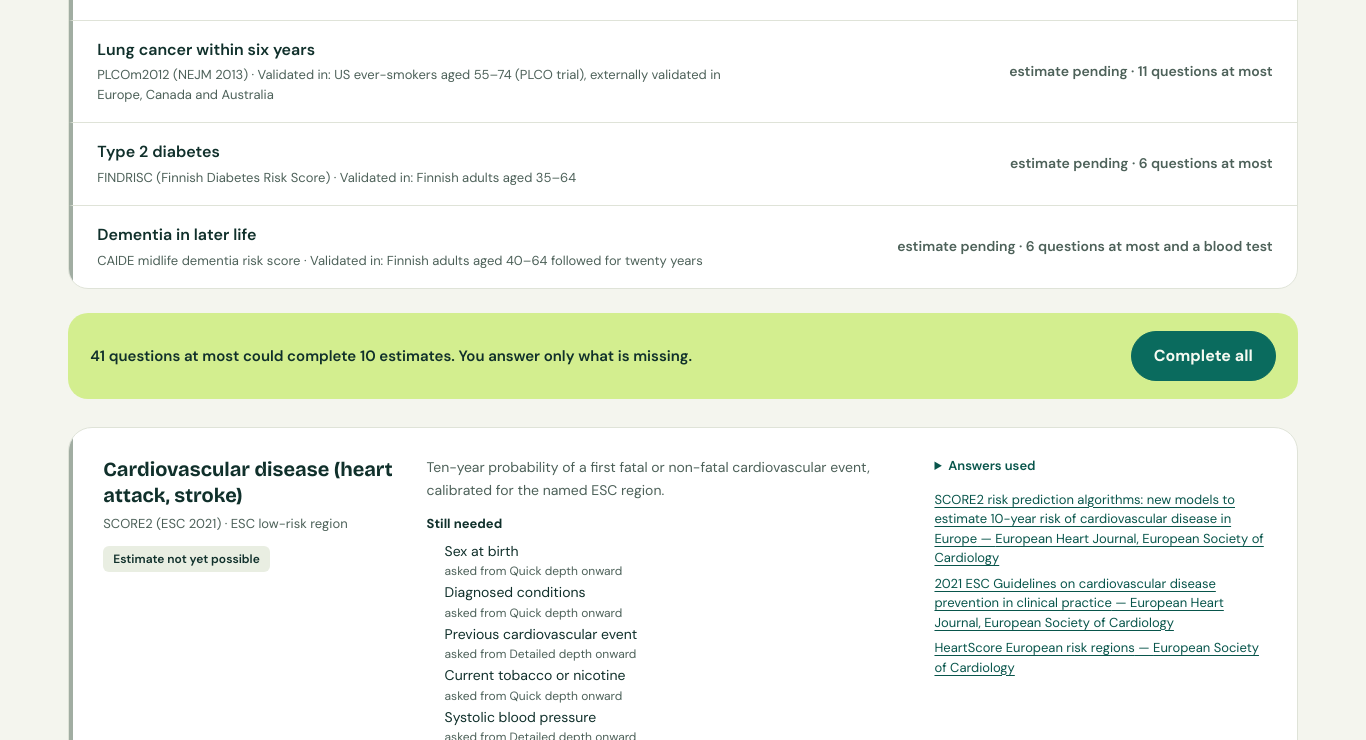
Test case: Express adults see the conditions and can complete all estimates, going back and stopping at will
(page scrolled)
Click the button "Complete all". click: point(1203, 356)
box: [1131, 331, 1276, 381]
(page scrolled)
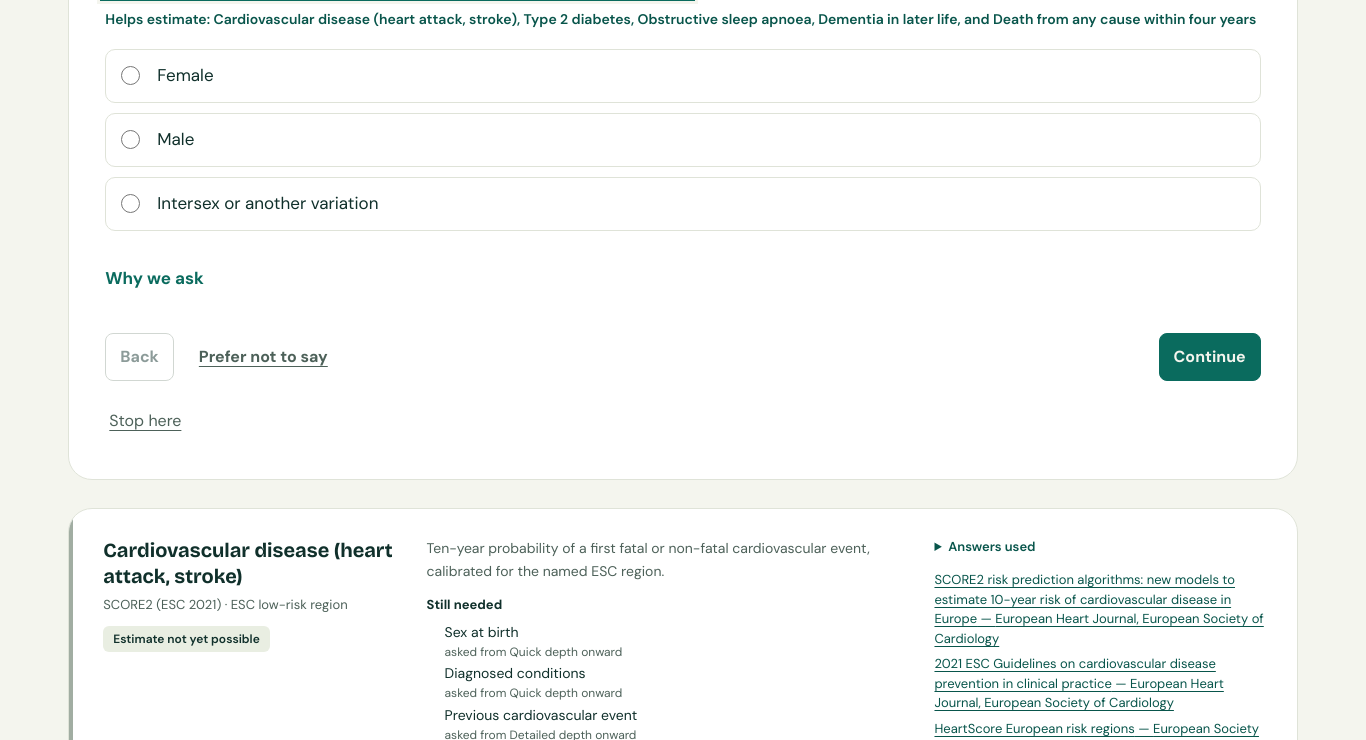
Expected: the button "Back" is disabled, [105, 333, 174, 381]
Click the button "Prefer not to say". click: point(263, 357)
box: [184, 333, 343, 381]
(page scrolled)
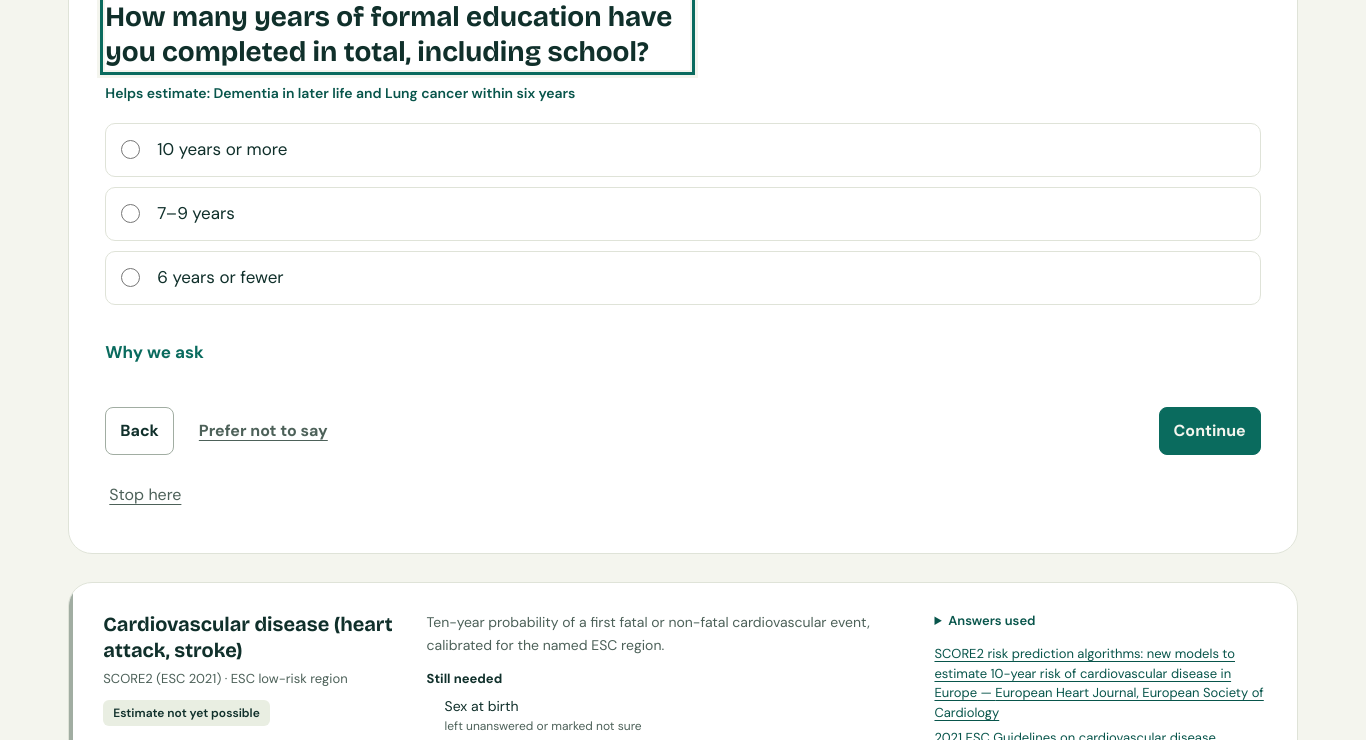
Click the button "Back". click: point(140, 431)
box: [105, 407, 174, 455]
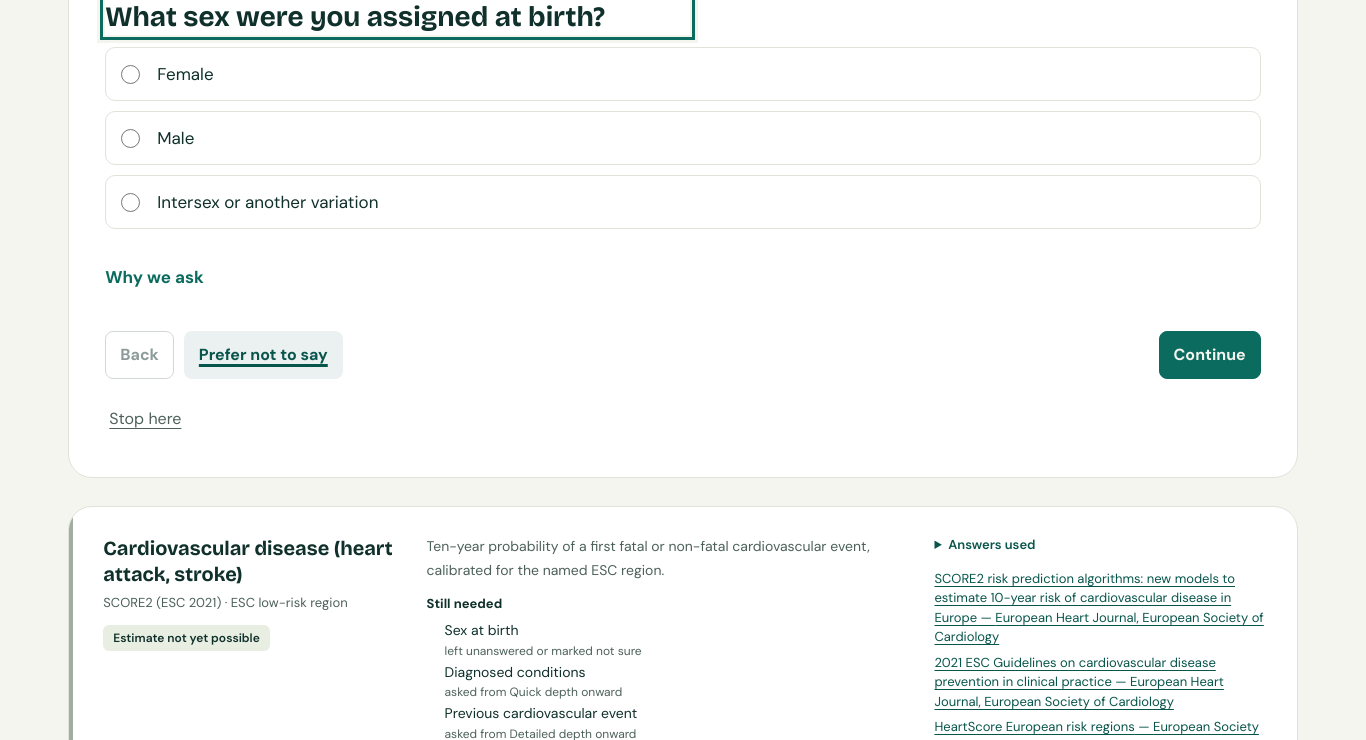
Expected: the button "Prefer not to say" is pressed, [184, 331, 343, 379]
Click the button "Stop here". click: point(145, 419)
box: [105, 397, 185, 441]
(page scrolled)
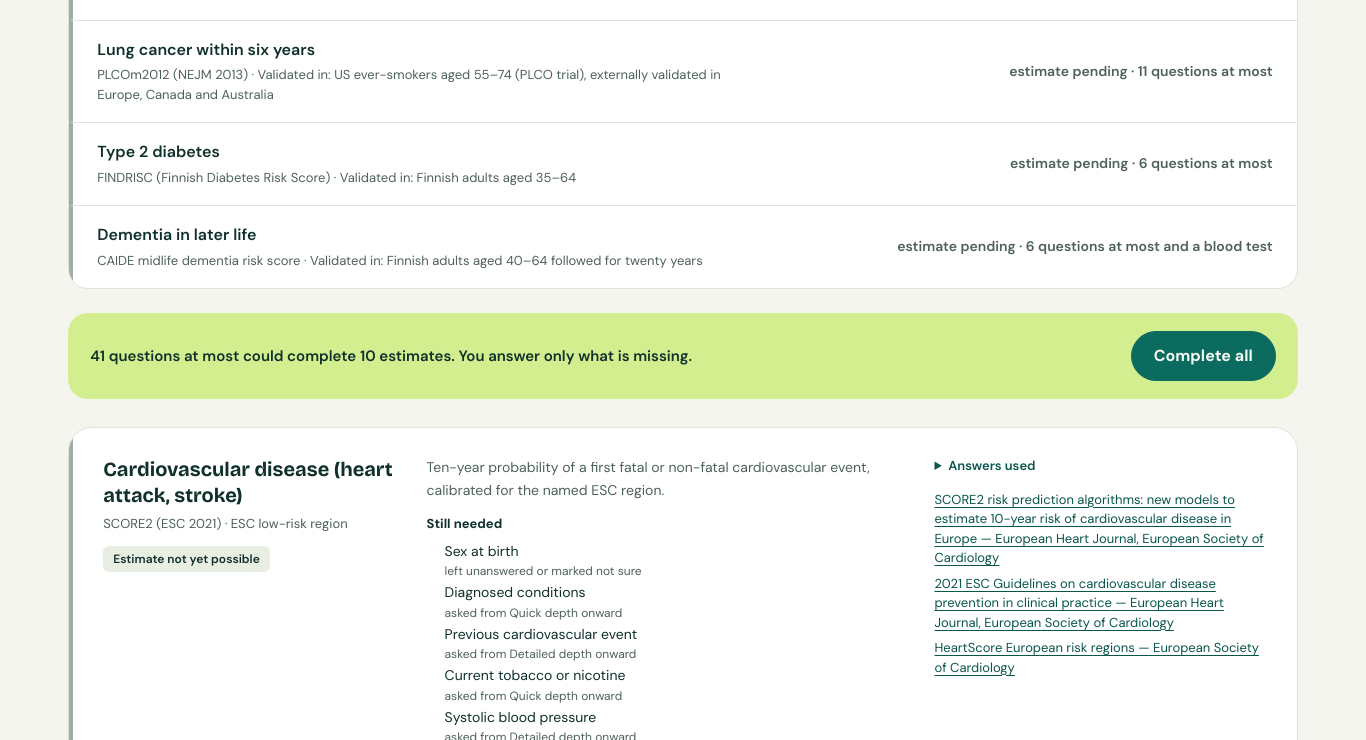
Expected: the button "Complete all" is shown, [1131, 331, 1276, 381]
